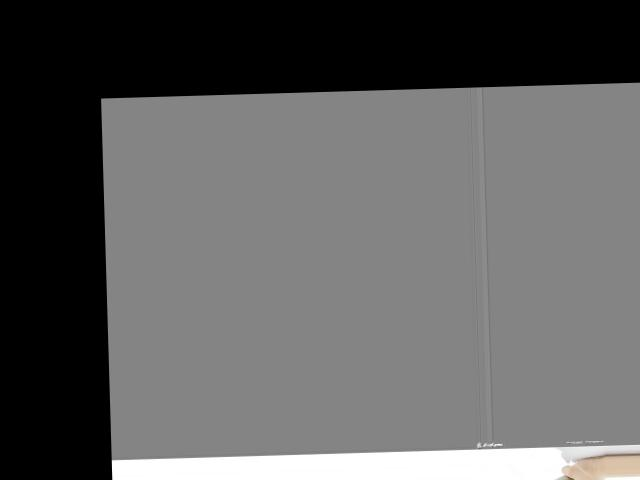cucumber: (534, 474, 576, 480)
